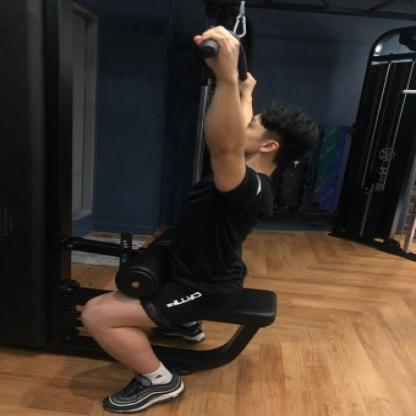Lat Pull Down: (0, 0, 353, 416)
